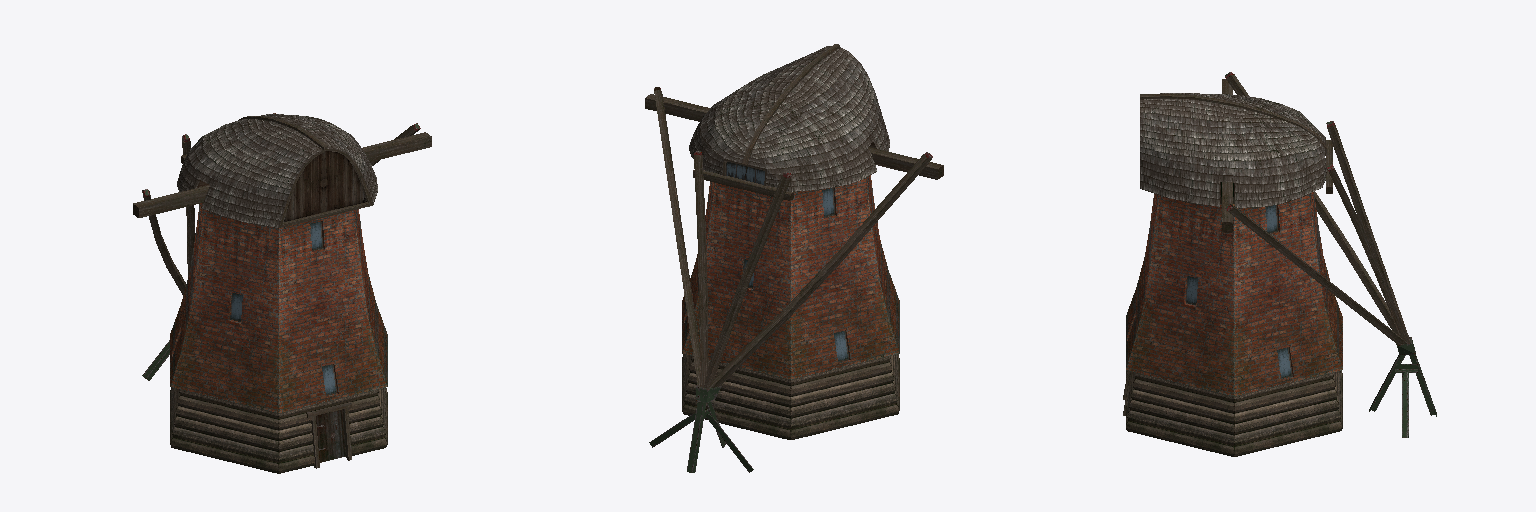
3 views of the same model, side by side, from view 1: azimuth 30°, elevation 25°; view 2: azimuth 150°, elevation 25°; view 3: azimuth 270°, elevation 25° (orthographic).
Parts seen in each view (by area): view 1: lod_0_windmill_0; view 2: lod_0_windmill_0; view 3: lod_0_windmill_0.
Boxes of the visible parts, box(x1,y1,x2,y2) form: lod_0_windmill_0: box(133, 113, 431, 473); lod_0_windmill_0: box(645, 44, 943, 472); lod_0_windmill_0: box(1123, 72, 1436, 456).
Bounding box in the file's own units: 1.67 × 1.76 × 1.56.
1 materials, 1 textured.